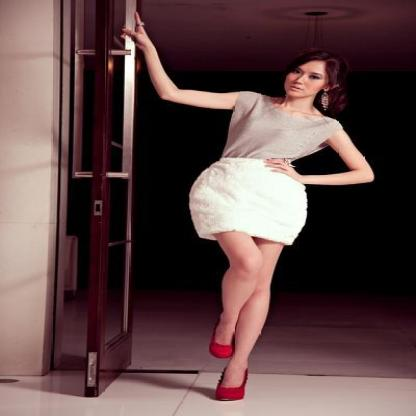shirt: (222, 91, 350, 170)
shoe: (209, 335, 247, 400)
skirt: (189, 157, 307, 244)
